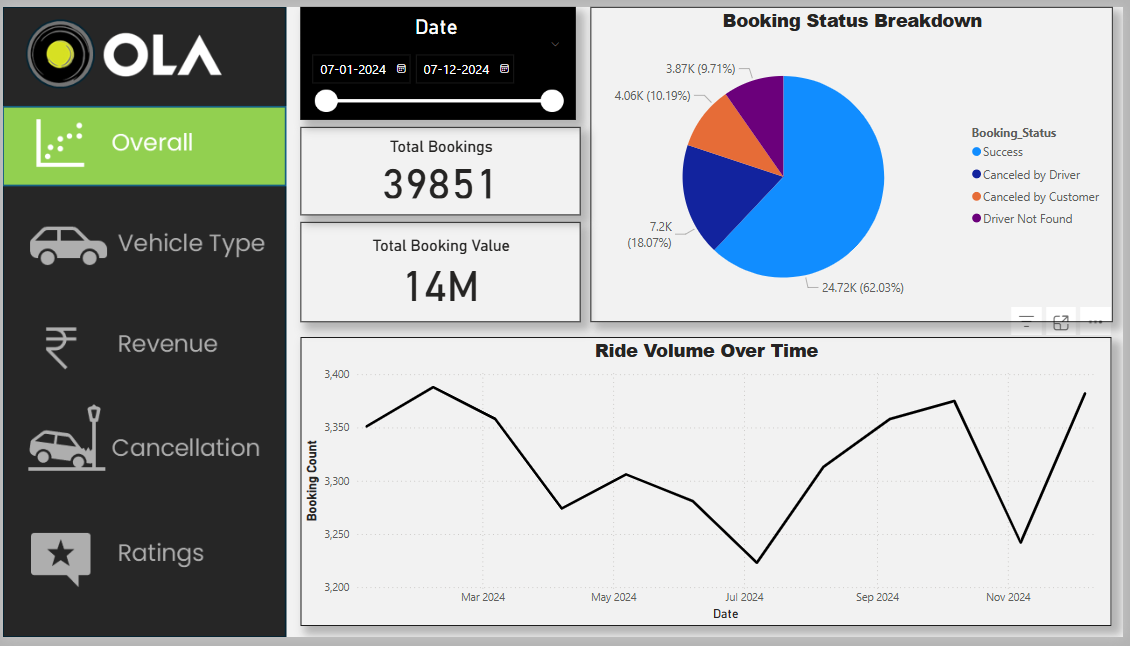

This screenshot's page, from the dashboard's own definition file:
{"tool":"powerbi","page":{"name":"Over All","canvas":[1280,720],"ordinal":0},"visuals":[{"type":"actionButton","box":[0,227.8,323.3,90],"z":0},{"type":"actionButton","box":[0,345.6,323.3,90],"z":1000},{"type":"actionButton","box":[0,445.6,323.3,106.7],"z":2000},{"type":"actionButton","box":[0,573.3,323.3,110],"z":3000},{"type":"lineChart","title":"Ride Volume Over Time","fields":{"Y":["CountNonNull(Bookings.Booking_ID)"],"Category":["Bookings.Date"]},"box":[340,376.7,927.8,330],"z":4000},{"type":"pieChart","title":"Booking Status Breakdown","fields":{"Category":["Bookings.Booking_Status"],"Y":["CountNonNull(Bookings.Booking_ID)"]},"box":[671.1,0,596.7,360],"z":5000},{"type":"slicer","title":"Date","fields":{"Values":["Bookings.Date"]},"box":[340,0,314.3,128.6],"z":6000},{"type":"card","title":"Total Bookings","fields":{"Values":["Count(Bookings.Booking_ID)"]},"box":[340,136.7,320,101.1],"z":7000},{"type":"card","title":"Total Booking Value","fields":{"Values":["Sum(Bookings.Booking_Value)"]},"box":[340,245.6,320,114.4],"z":8000}]}

Visuals, with their boxes in screenshot pixels (x1, y1, x2, y2), scaled from the page's 1280x720 canvas onto the 1130x646 screenshot:
actionButton: box=[0, 204, 285, 285]
actionButton: box=[0, 310, 285, 391]
actionButton: box=[0, 400, 285, 496]
actionButton: box=[0, 514, 285, 613]
"Ride Volume Over Time" lineChart: box=[300, 338, 1119, 634]
"Booking Status Breakdown" pieChart: box=[592, 0, 1119, 323]
"Date" slicer: box=[300, 0, 578, 115]
"Total Bookings" card: box=[300, 123, 583, 213]
"Total Booking Value" card: box=[300, 220, 583, 323]
